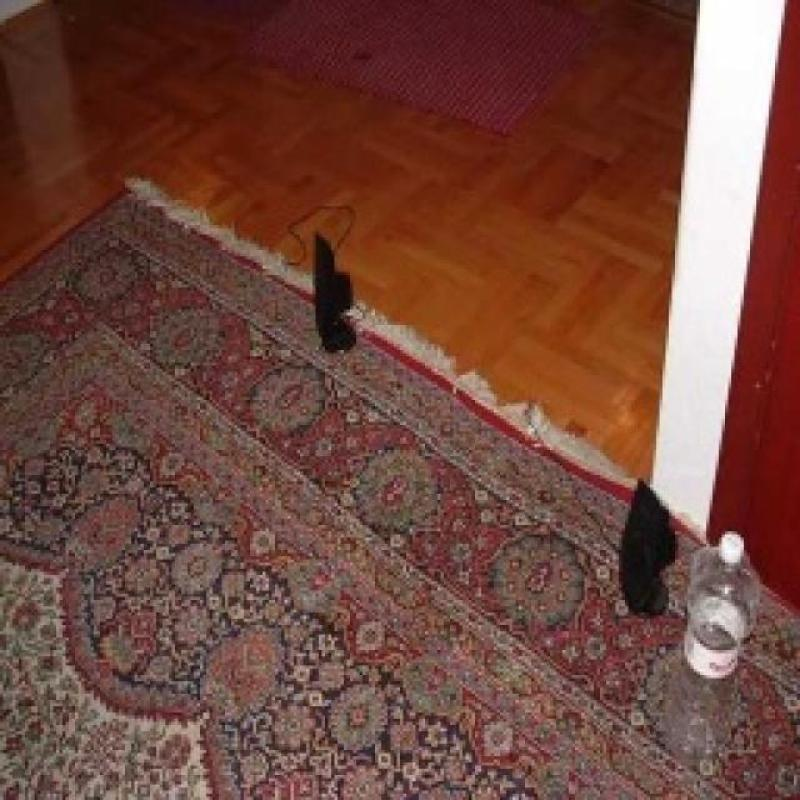botella: (674, 532, 748, 738)
